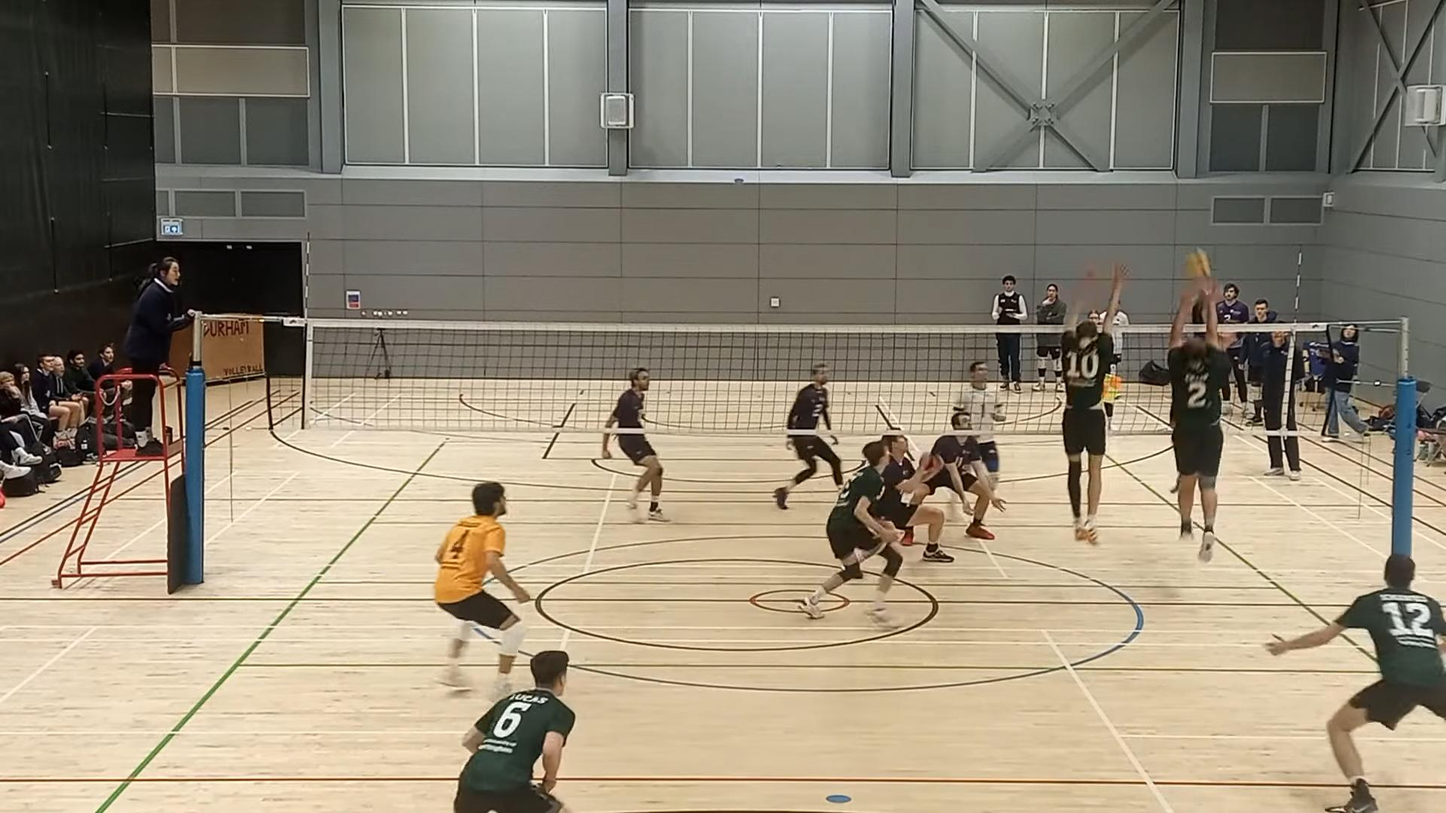Block: (1060, 261, 1123, 551), (1167, 281, 1224, 563)
Player: (1267, 554, 1445, 812), (434, 482, 530, 696), (453, 650, 575, 812), (798, 441, 902, 626), (912, 412, 1005, 540), (602, 367, 668, 522), (773, 363, 842, 508), (877, 434, 953, 562), (954, 361, 1005, 488)
